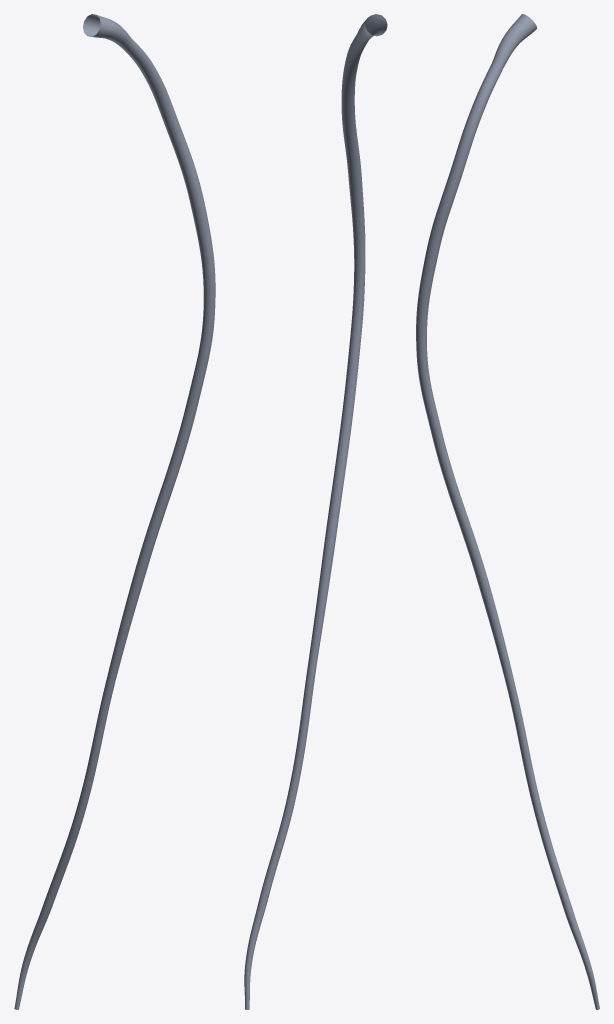
3 views of the same model, side by side, from view 1: azimuth 90°, elevation 25°; view 2: azimuth 150°, elevation 25°; view 3: azimuth 270°, elevation 25° (orthographic). The views are drawn at different scales.
Parts seen in each view (by area): view 1: 右侧（未命名结构）; view 2: 右侧（未命名结构）; view 3: 右侧（未命名结构）.
Boxes of the visible parts, box(x1,y1,x2,y2) form: 右侧（未命名结构）: box(14, 14, 215, 1009); 右侧（未命名结构）: box(244, 14, 387, 1009); 右侧（未命名结构）: box(416, 14, 599, 1009).
Size of the model in its own units: 0.00815 by 0.0717 by 0.0126.
